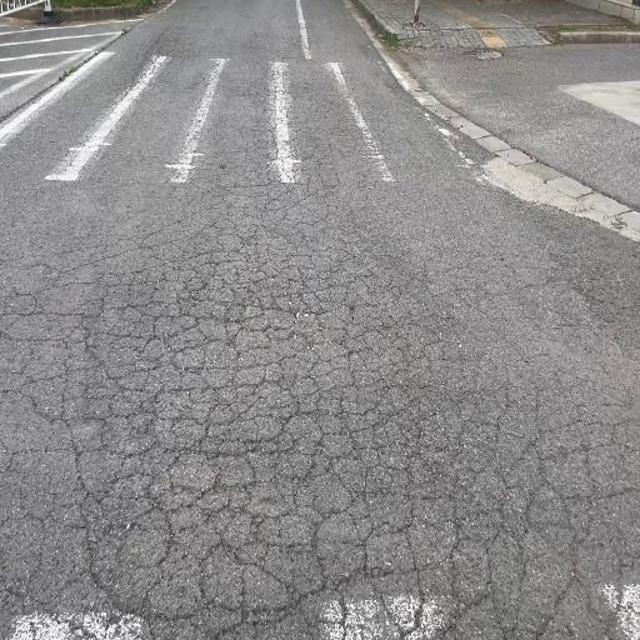Retak Buaya: (33, 255, 604, 640)
